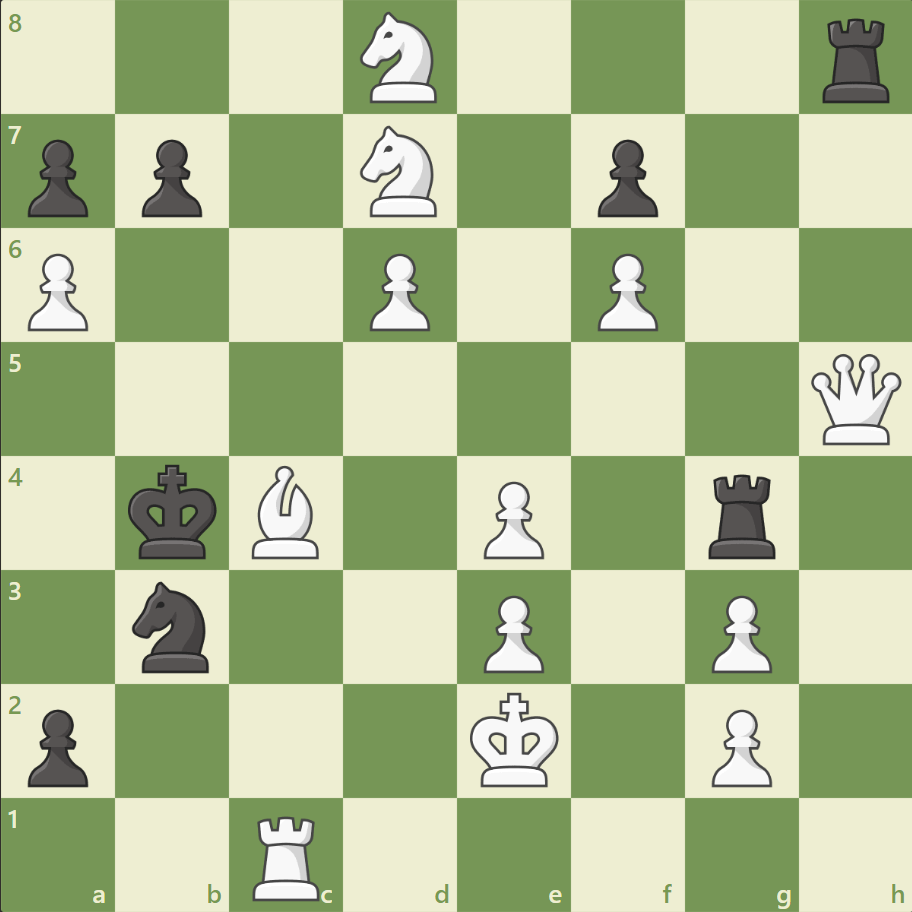B: (244, 460, 328, 563)
K: (465, 685, 565, 793)
N: (351, 7, 449, 110), (351, 121, 449, 223)
P: (20, 246, 95, 337), (474, 473, 549, 564), (474, 586, 549, 677), (701, 586, 776, 677), (701, 700, 776, 791), (361, 246, 435, 337), (588, 246, 662, 337)
Q: (805, 349, 904, 449)
R: (246, 806, 329, 904)
k: (124, 458, 224, 566)
n: (124, 575, 222, 677)
p: (20, 132, 95, 223), (133, 132, 208, 223), (20, 700, 95, 791), (588, 132, 662, 223)
r: (814, 12, 897, 109), (700, 466, 783, 563)
